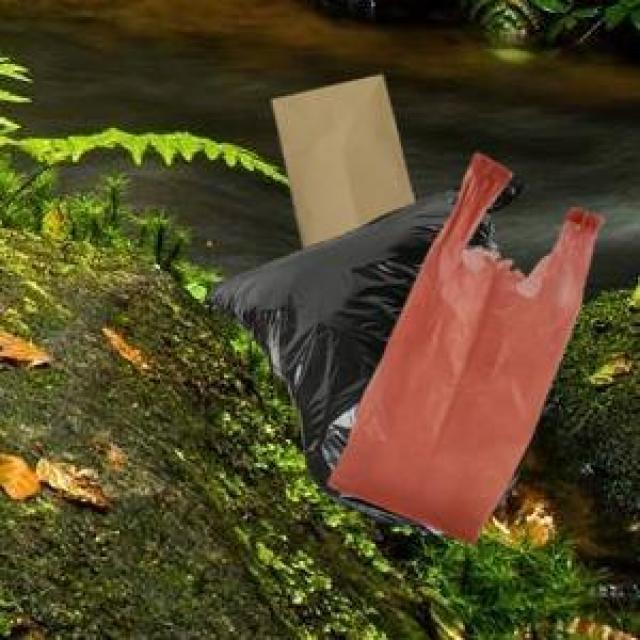miscellaneous trash: (201, 179, 529, 533)
paper: (269, 70, 410, 245)
